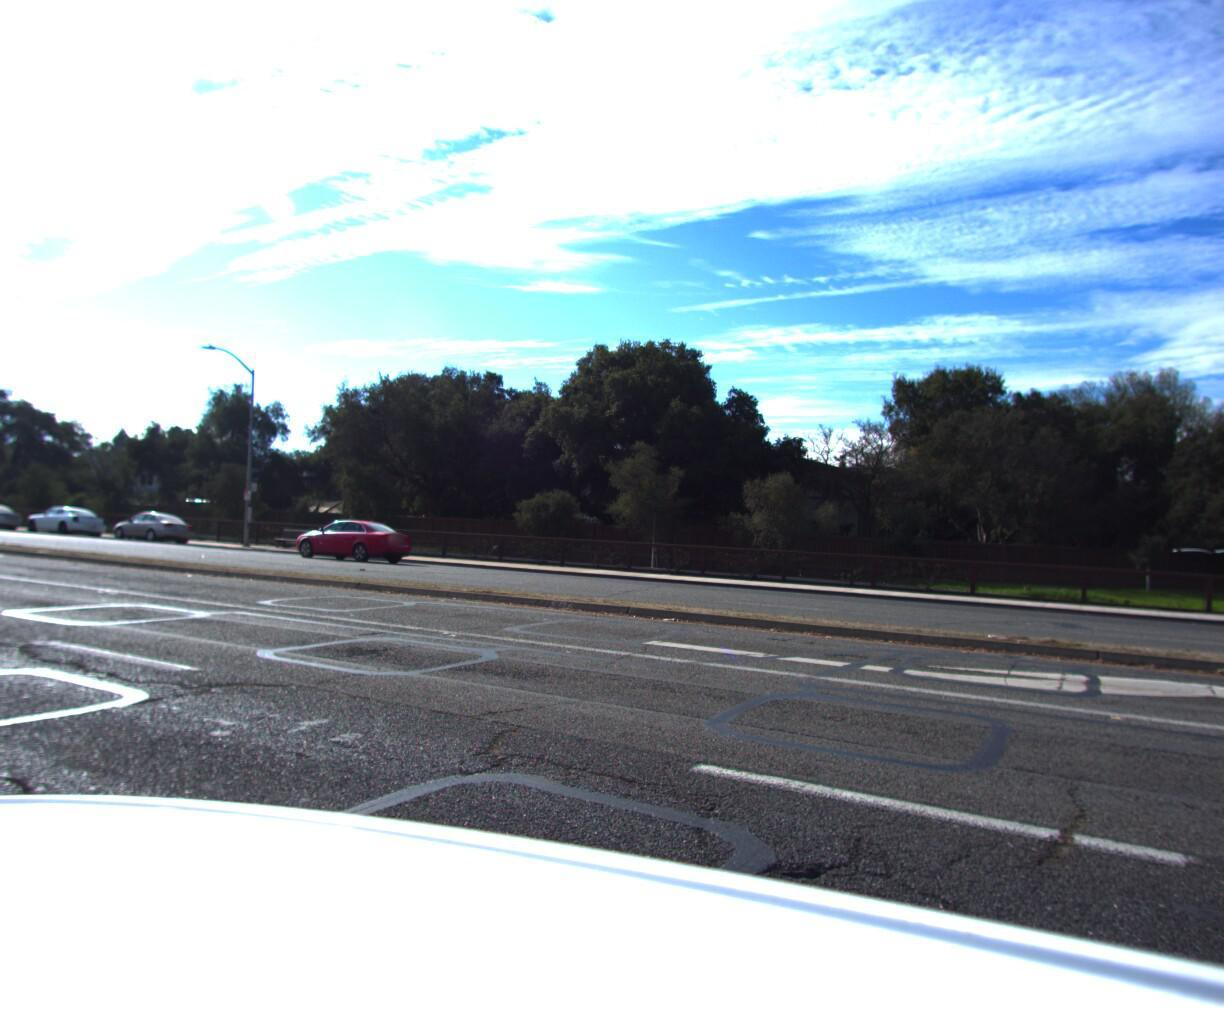car: (283, 509, 420, 559), (109, 504, 199, 541), (22, 498, 113, 534)
